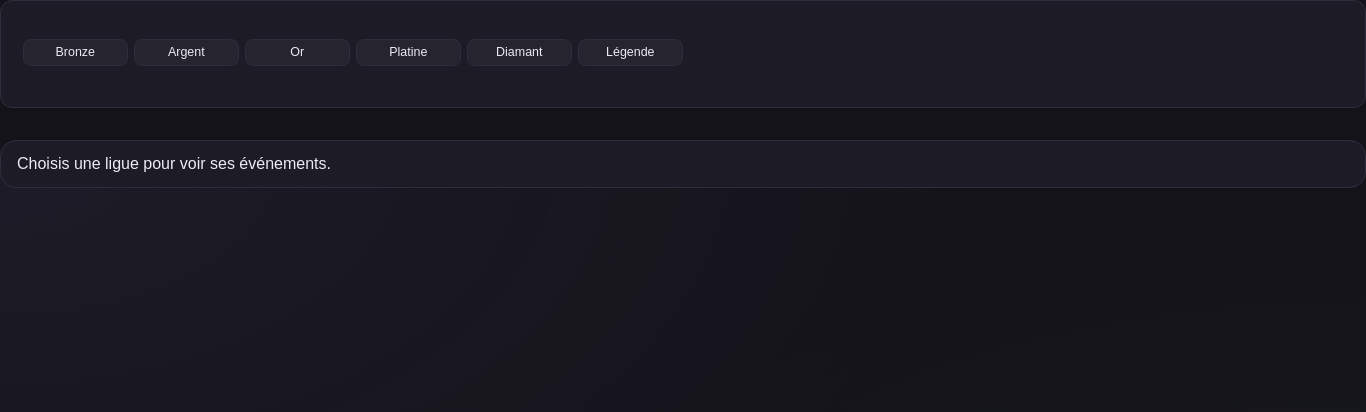
Test: EventsReferenceTable › Bloc60: shows a no-tiers message for an event with an empty tier list
Click the button "Bronze" at (75, 52), box top-left (23, 39), bottom-right (128, 66)
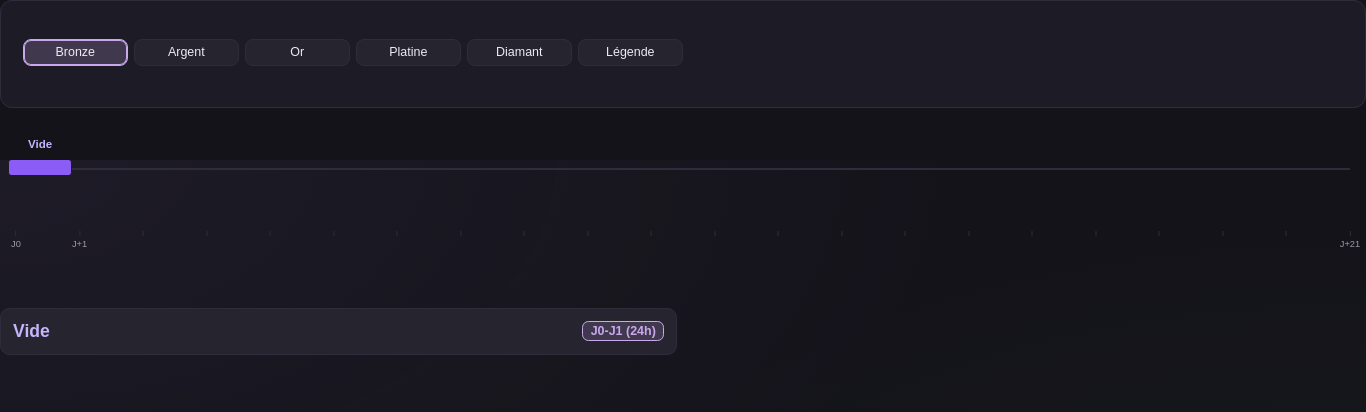
Click the text "Vide" in the row of "J0-J1 (24h)" at (31, 331), box top-left (13, 321), bottom-right (50, 342)
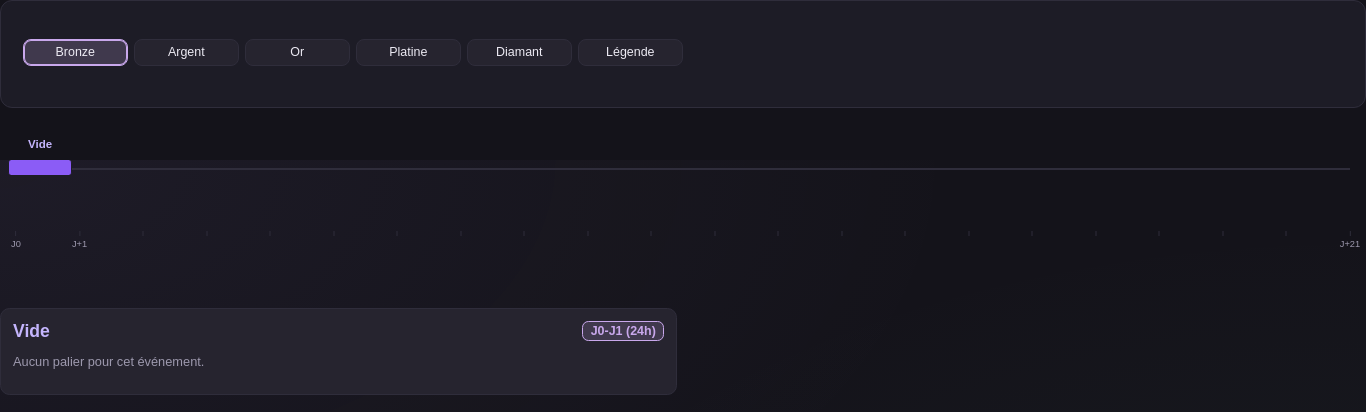
Now the text "Aucun palier pour cet événement." is shown, box top-left (13, 354), bottom-right (204, 369)
